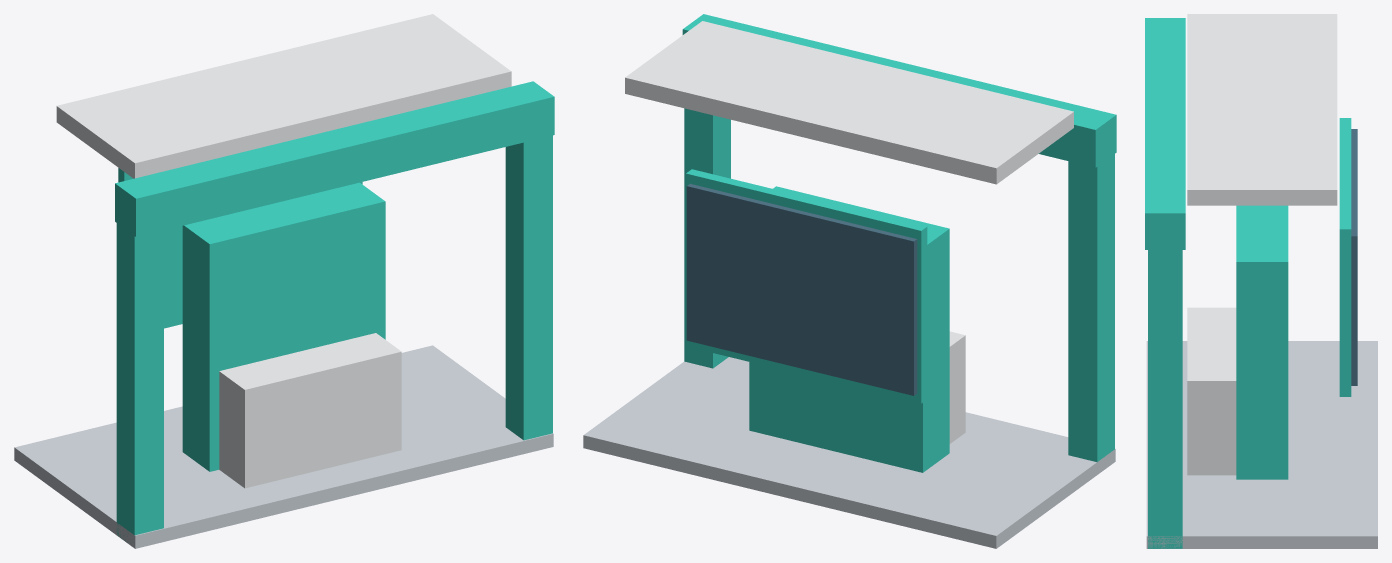
3 renders of one model, left to right at view 1: azimuth 30°, elevation 25°; view 2: azimuth 150°, elevation 25°; view 3: azimuth 270°, elevation 25°, orthographic. The views are drawn at different scales.
Visible parts, largest first — view 1: Exhibition Booth Concept; view 2: Exhibition Booth Concept; view 3: Exhibition Booth Concept.
Part boxes in pixels (left/top/right/bottom): Exhibition Booth Concept: left=14, top=14, right=554, bottom=548; Exhibition Booth Concept: left=583, top=14, right=1116, bottom=548; Exhibition Booth Concept: left=1145, top=14, right=1377, bottom=548.
Size of the model in its own units: 4 by 3.34 by 2.01.
